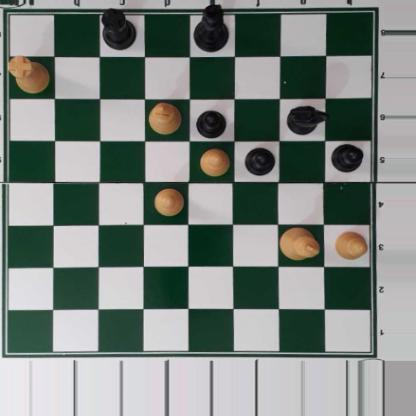black-king: (192, 3, 230, 54)
black-knight: (289, 104, 325, 136)
black-pawn: (331, 142, 363, 173), (194, 107, 226, 137), (244, 146, 275, 176)
black-rook: (99, 9, 137, 50)
white-bishop: (148, 98, 182, 136)
white-king: (279, 225, 319, 261)
white-pawn: (333, 230, 368, 261), (198, 147, 229, 177), (153, 187, 184, 215)
white-rook: (7, 57, 51, 94)
